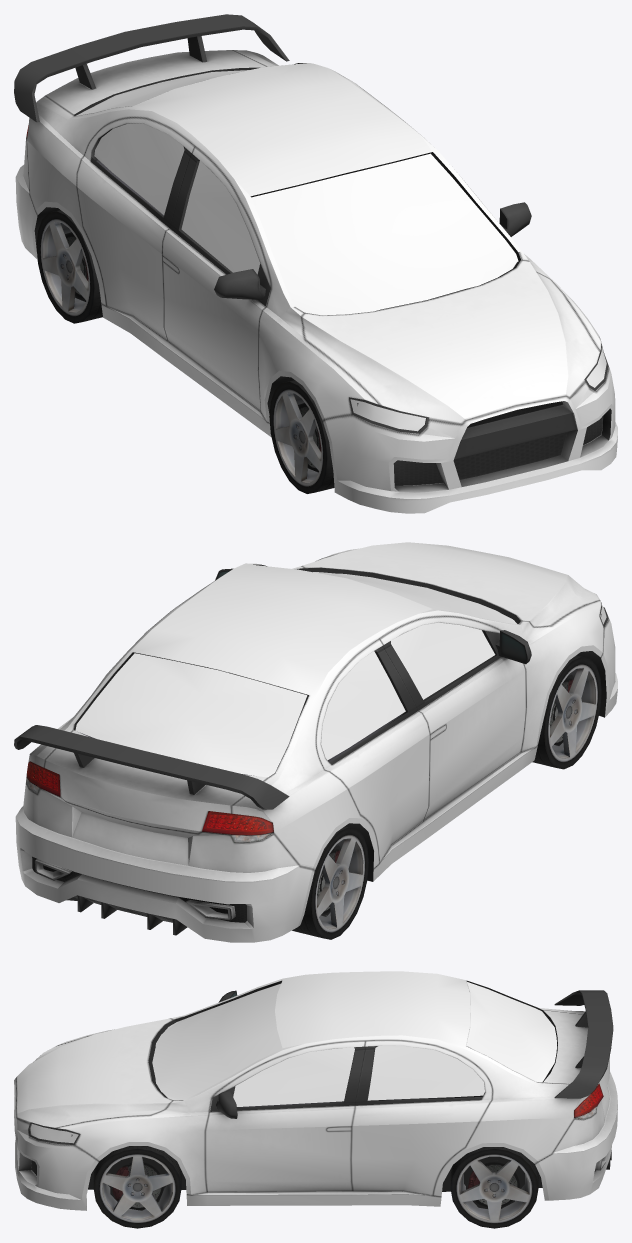
3 views of the same model, one above another, from view 1: azimuth 30°, elevation 25°; view 2: azimuth 150°, elevation 25°; view 3: azimuth 270°, elevation 25° (orthographic). The views are drawn at different scales.
Parts seen in each view (by area): view 1: Body_19, Glass_19, Matte_19, Wheel_R, Wheel_Back_R, Glass_light; view 2: Body_19, Glass_19, Matte_19, Wheel_Back_R, Wheel_R, Taillights_19; view 3: Body_19, Glass_19, Matte_19, Wheel_L, Wheel_Back_L, break_L, Glass_light, Taillights_19.
Part boxes in pixels (box(x1,y1,x2,y2)): Body_19: box(15, 50, 617, 513); Glass_19: box(76, 70, 518, 315); Matte_19: box(14, 14, 608, 485); Wheel_R: box(269, 380, 334, 493); Wheel_Back_R: box(36, 210, 102, 323); Glass_light: box(350, 347, 606, 431); Body_19: box(15, 542, 617, 942); Glass_19: box(75, 572, 516, 777); Matte_19: box(14, 564, 608, 935); Wheel_Back_R: box(292, 826, 368, 939); Wheel_R: box(532, 655, 601, 769); Taillights_19: box(26, 761, 273, 842); Body_19: box(14, 971, 617, 1210); Glass_19: box(152, 982, 556, 1106); Matte_19: box(28, 980, 613, 1208); Wheel_L: box(93, 1146, 181, 1228); Wheel_Back_L: box(450, 1147, 538, 1228); break_L: box(110, 1160, 165, 1210); Glass_light: box(30, 1124, 78, 1143); Taillights_19: box(574, 1083, 603, 1118).
Bounding box in the file's own units: 81.52 × 57.78 × 178.
